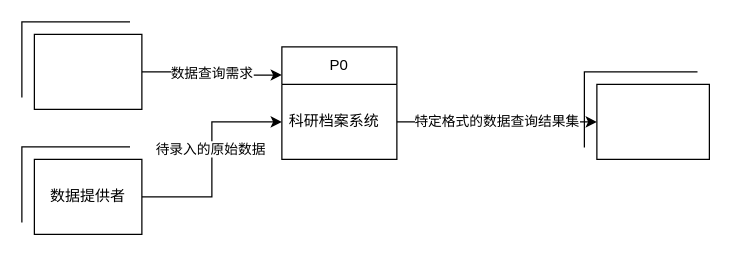
Some shapes in this 731 by 256 pixel diagram are drawn without their labels. The shapes that lost their labels are listed below. From the top down, each one's centre as x and y in pixels, then its label:
(87,71): 数据查询者
(652,121): 数据使用者
